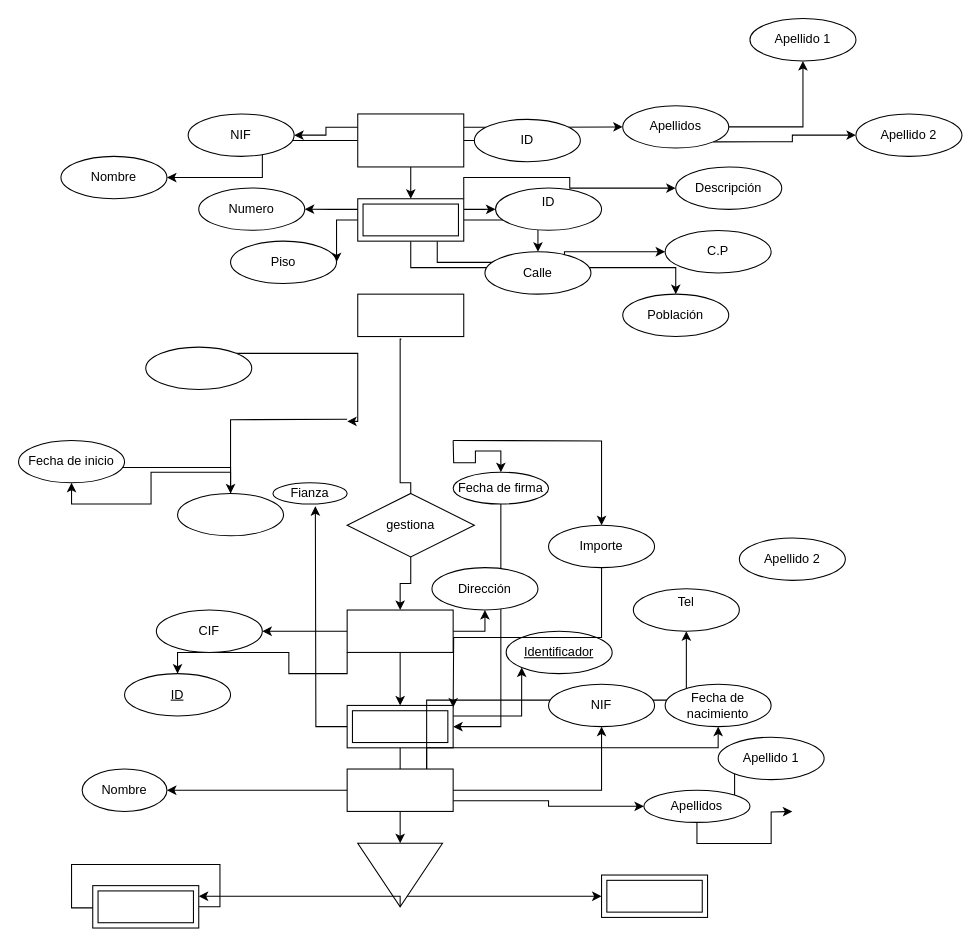
The diagram is 980 pixels wide and 947 high, and some of its shapes have lost their labels. Each missing label, with the box of its shape:
Agencia: (346, 609, 453, 652)
Alquiler: (357, 293, 464, 337)
Contrato: (346, 704, 453, 748)
Fecha: (176, 492, 284, 536)
Fecha de fin: (145, 346, 252, 390)
Inquilino: (346, 768, 453, 811)
No renueva: (600, 874, 708, 917)
Propietario: (357, 113, 464, 167)
Renueva: (92, 885, 199, 928)
Viviendas: (357, 198, 464, 241)
